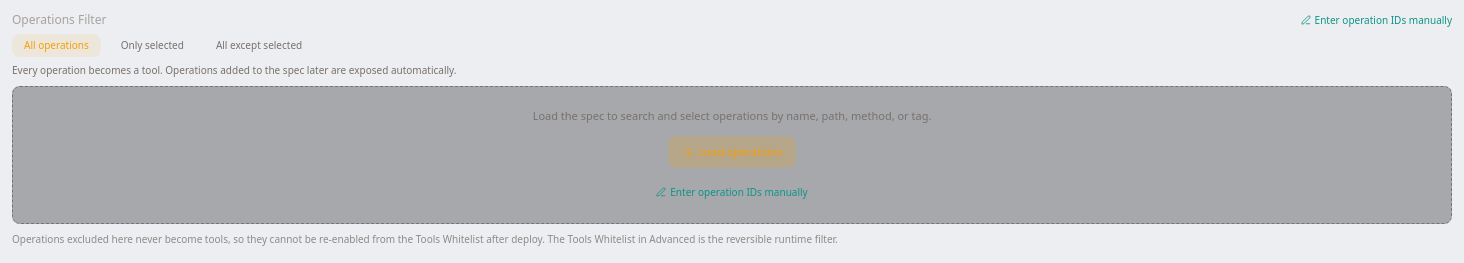
Test case: OperationsPicker › reaches manual entry from the empty state
Click the button "Enter operation IDs manually" in the row of "Operations Filter": (1376, 20) [1301,12,1452,28]
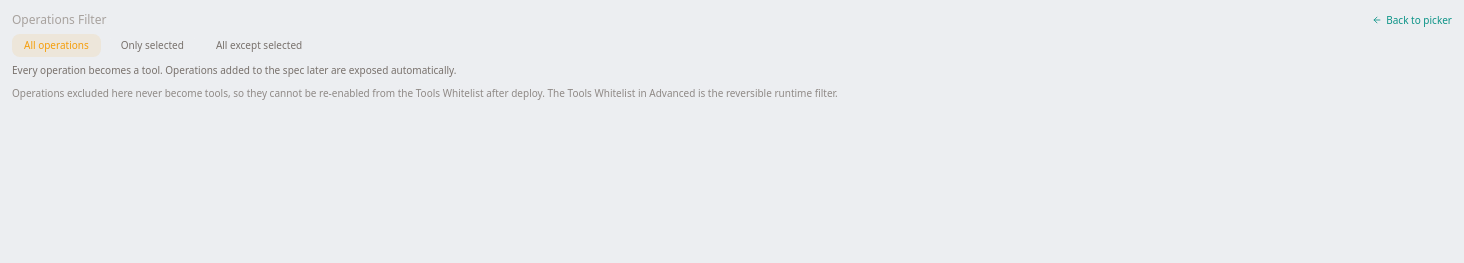
Expected: the button "Back to picker" is shown, [1372,12,1452,28]
